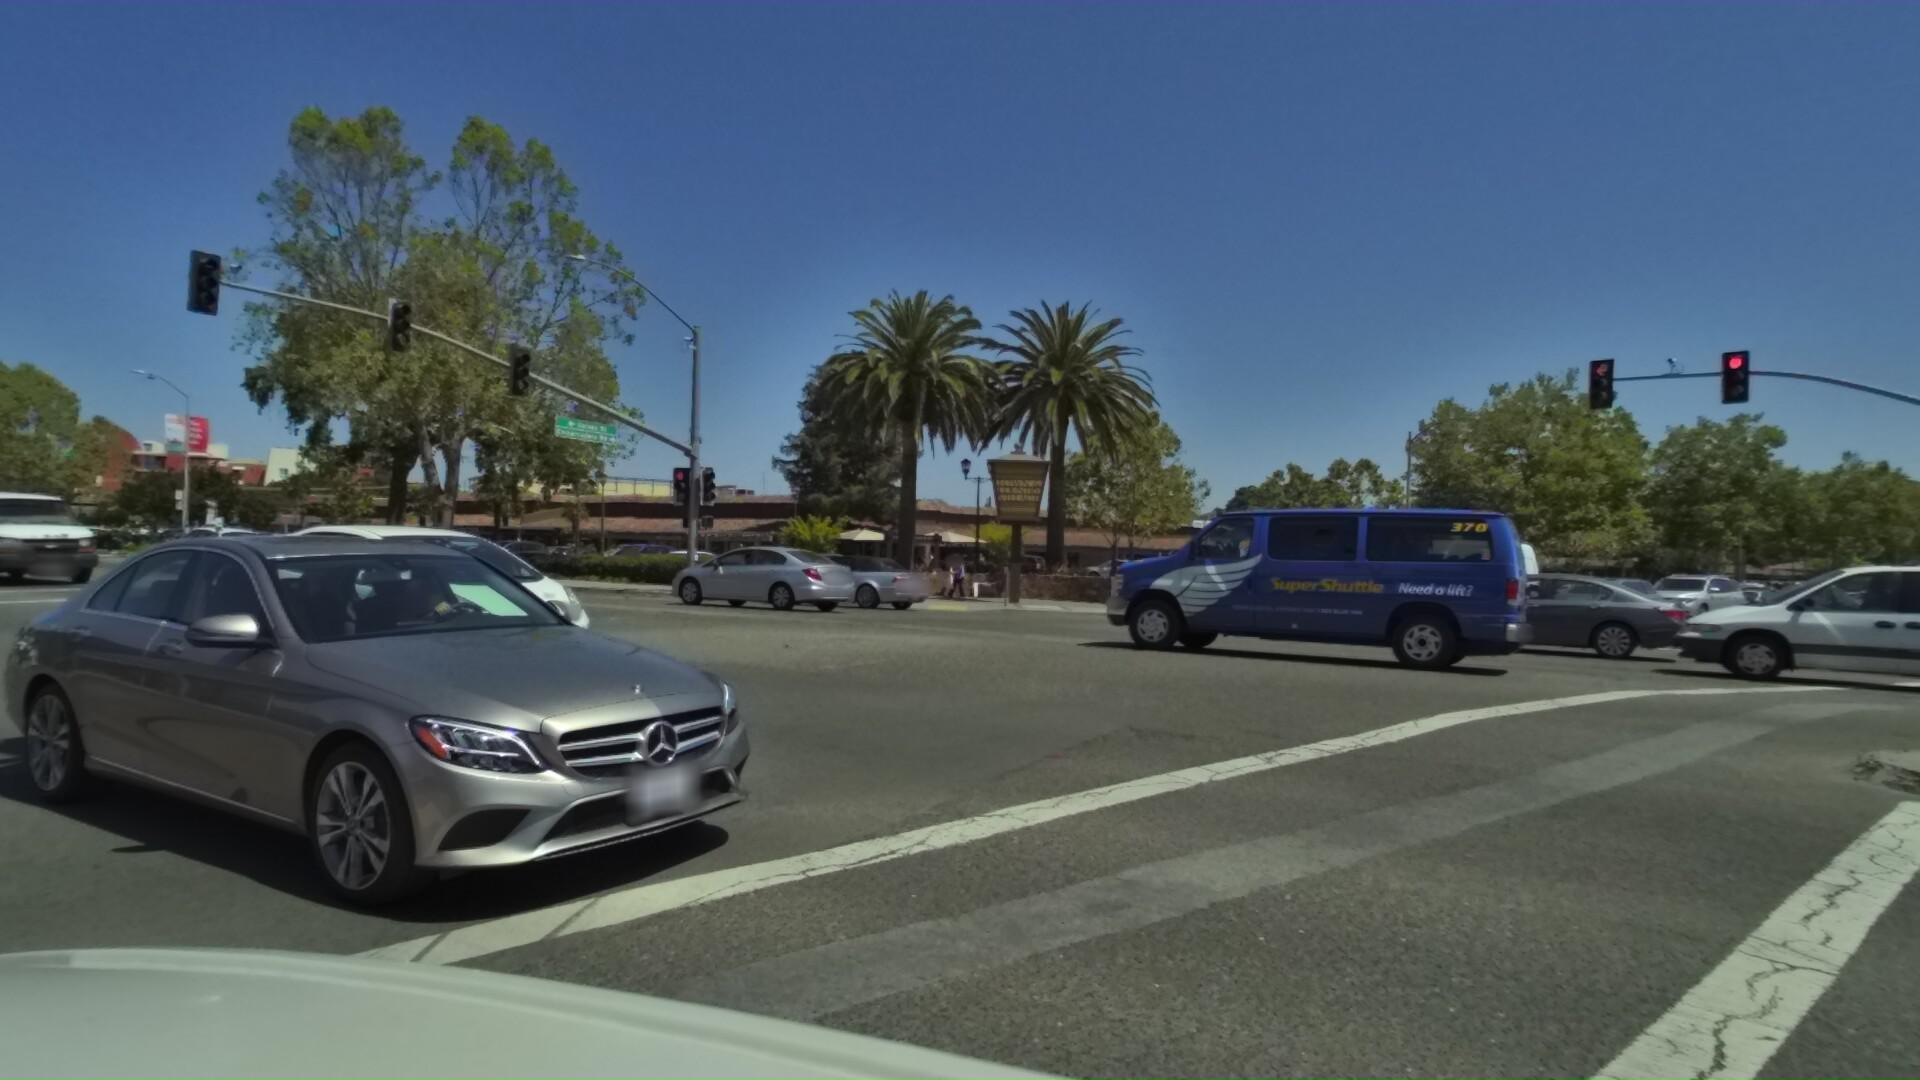car: (225, 506, 646, 698), (1023, 498, 1458, 676), (1575, 542, 1920, 704), (1325, 556, 1619, 657), (1324, 521, 1528, 632), (624, 533, 833, 611), (731, 550, 909, 611), (1160, 560, 1313, 620), (1505, 566, 1639, 630), (1606, 564, 1726, 626), (135, 520, 272, 574), (753, 546, 858, 588), (626, 543, 727, 580), (582, 539, 683, 575), (448, 535, 553, 568)
